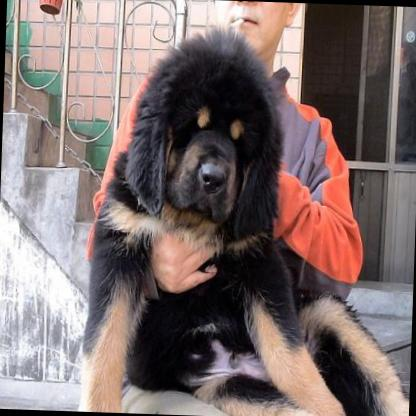Tibetan_mastiff: (69, 17, 415, 416)
